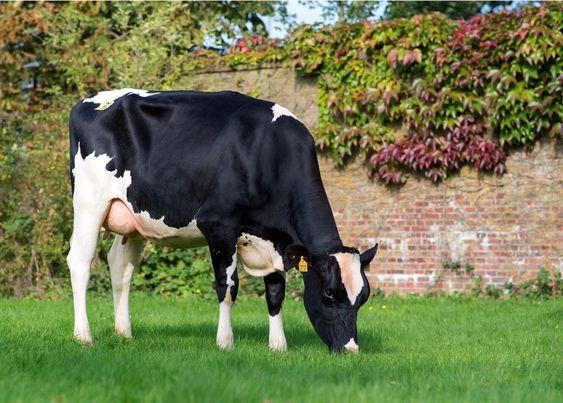cow: (43, 37, 423, 339)
